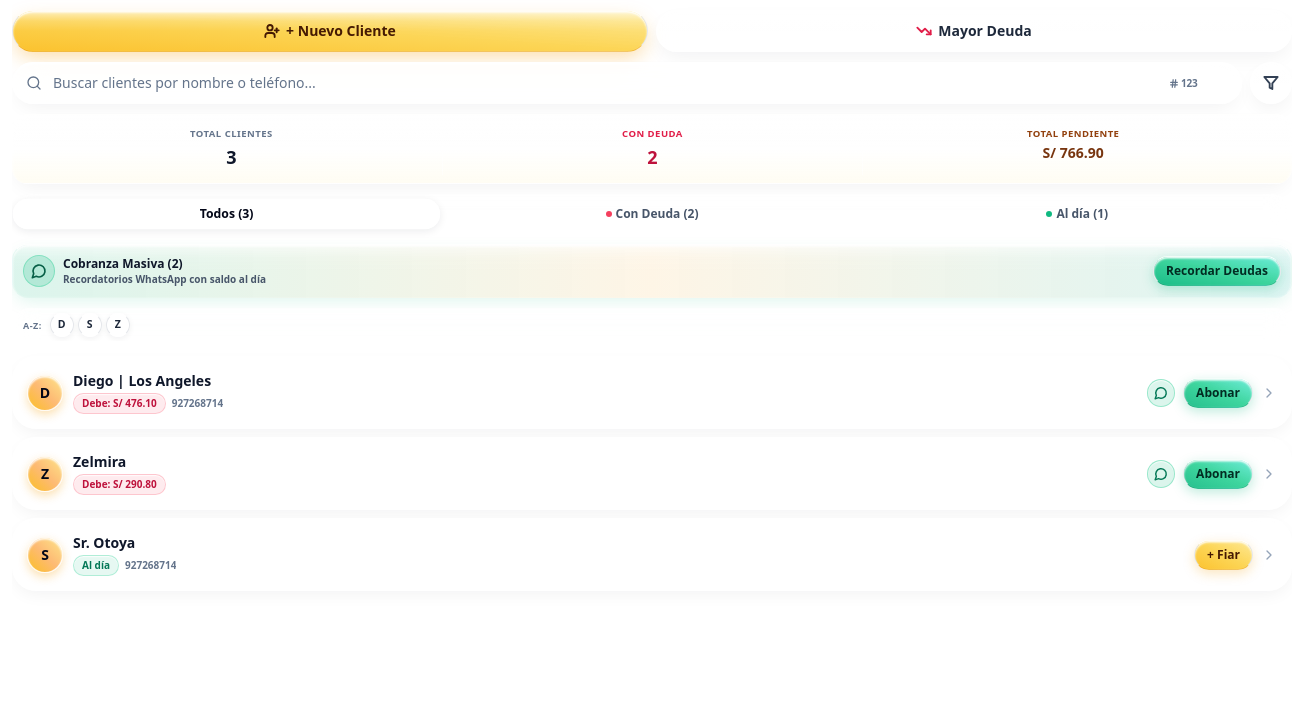
CustomersPage Component (Strict TDD) › Tab Filters (Todos, Con Deuda, Al día) › filters only clean customers when "Al día" tab is active
The width and height of the screenshot is (1304, 720).
Expected: the text "Diego | Los Angeles" is shown, [73, 371, 223, 391]
Click the button "Al día (1)" at (1077, 214), box [868, 199, 1287, 229]
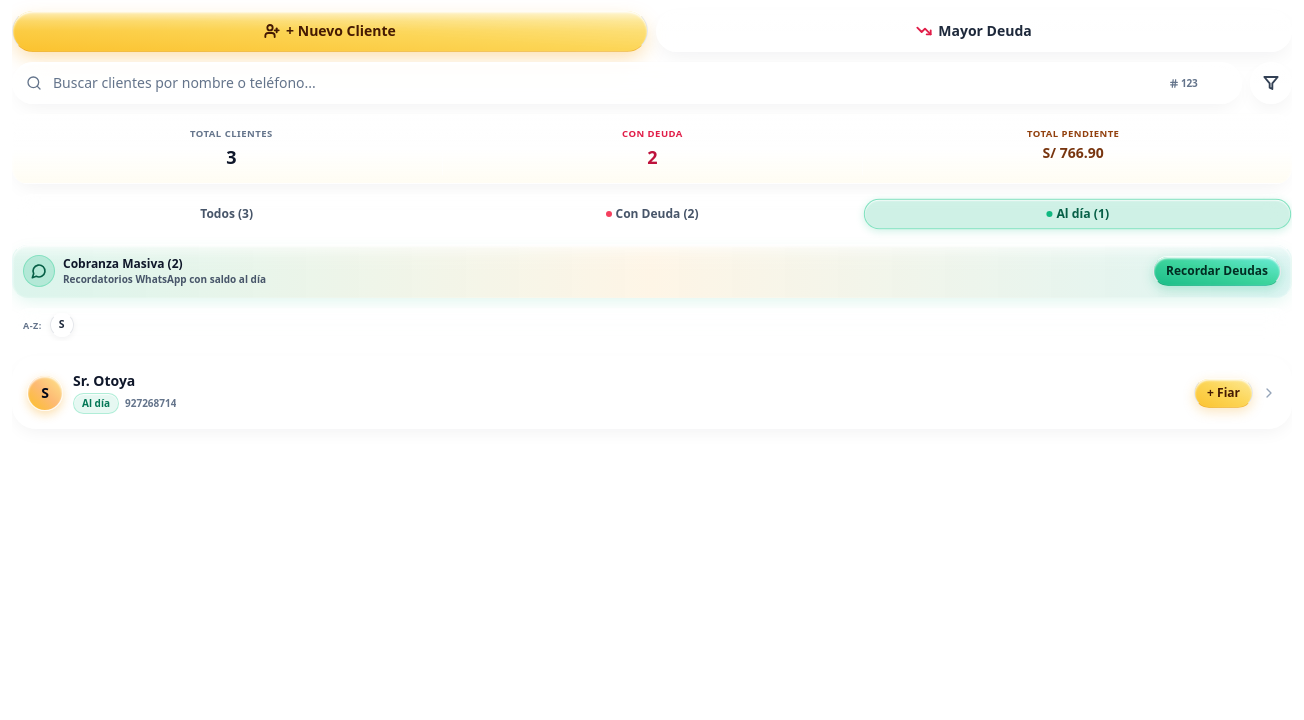
Expected: the text "Sr. Otoya" is shown, [73, 371, 135, 390]
Now the text "Diego | Los Angeles" is gone
Now the text "Zelmira" is gone
